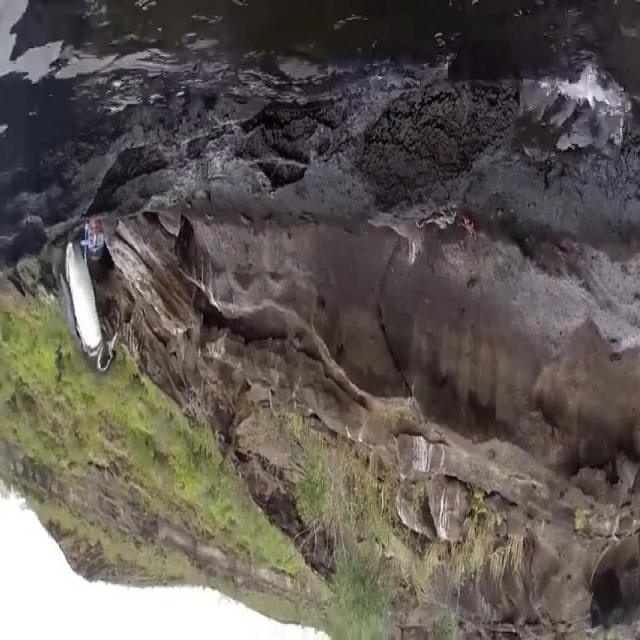penguin: (54, 235, 119, 373)
